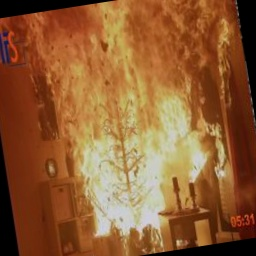fire: (0, 0, 256, 241)
